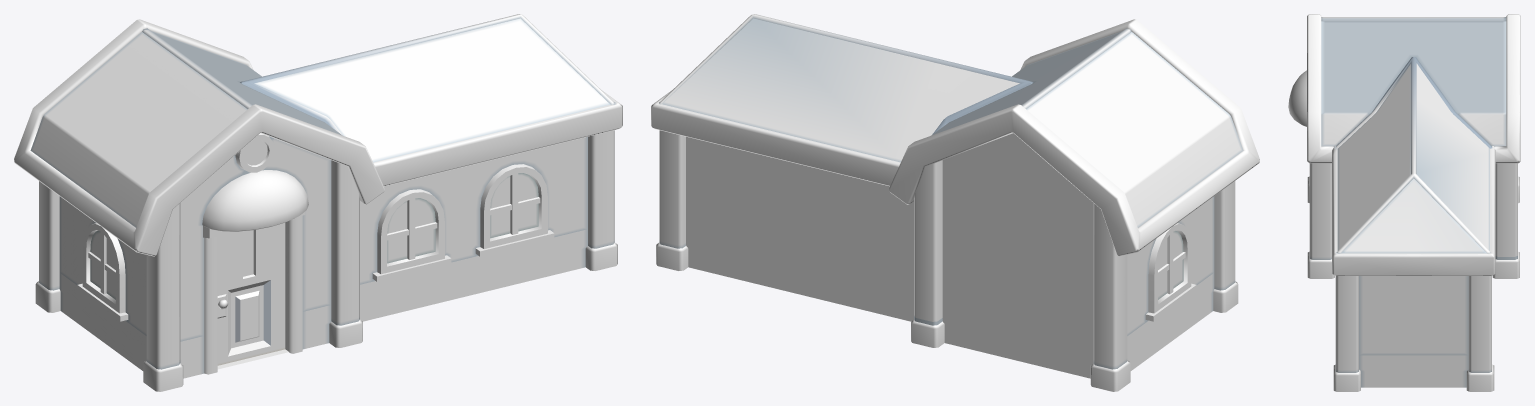
File: cerulean-house-a.glb
3 views of the same model, side by side, from view 1: azimuth 30°, elevation 25°; view 2: azimuth 150°, elevation 25°; view 3: azimuth 270°, elevation 25° (orthographic). The views are drawn at different scales.
Parts seen in each view (by area): view 1: cerulean-house-a; view 2: cerulean-house-a; view 3: cerulean-house-a.
Part boxes in pixels (left/top/right/bottom): cerulean-house-a: left=14, top=14, right=622, bottom=391; cerulean-house-a: left=651, top=14, right=1259, bottom=391; cerulean-house-a: left=1288, top=14, right=1520, bottom=391.
Size of the model in its own units: 6.98 by 3.43 by 3.26.
